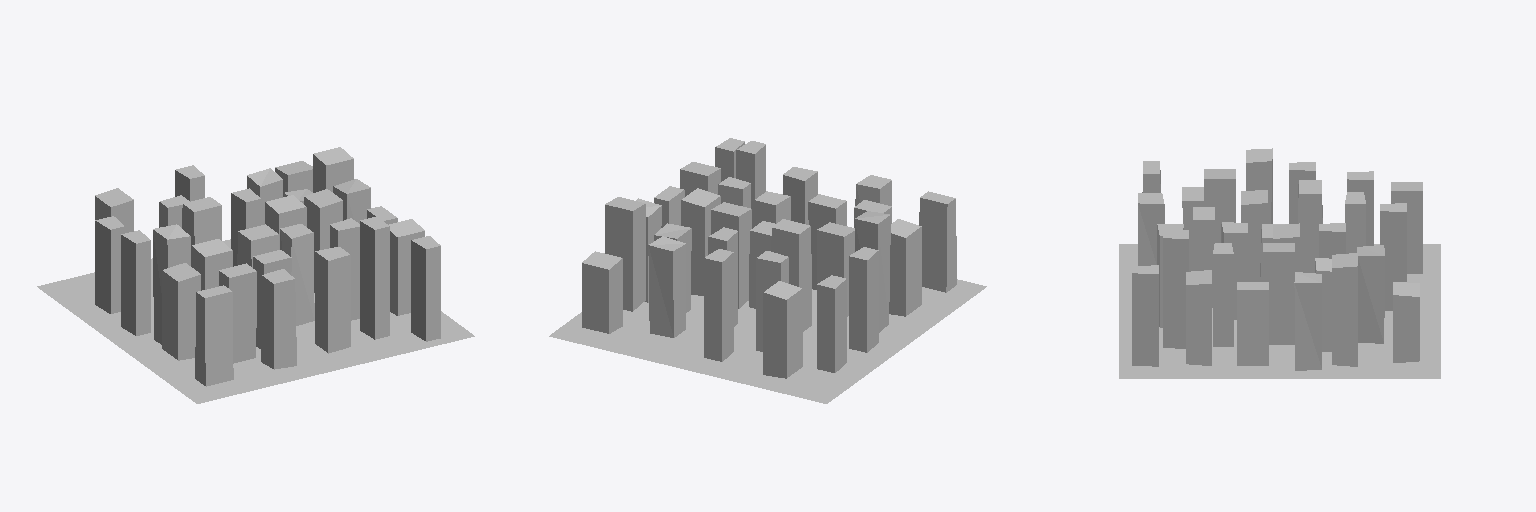
File: City.obj
3 renders of one model, left to right at view 1: azimuth 30°, elevation 25°; view 2: azimuth 150°, elevation 25°; view 3: azimuth 270°, elevation 25°, orthographic.
Visible parts, largest first — view 1: Plane, Cube.002, Cube.007, Cube.010, Cube.008, Cube.006, Cube.020, Cube.011, Cube.001, Cube.022, Cube.004, Cube.012 (+16 smaller); view 2: Plane, Cube.024, Cube.026, Cube.028, Cube.007, Cube.025, Cube.027, Cube.020, Cube.006, Cube.022, Cube.019, Cube.013 (+17 smaller); view 3: Plane, Cube.028, Cube.013, Cube.010, Cube.011, Cube.014, Cube.015, Cube.026, Cube.012, Cube.025, Cube.003, Cube.027 (+17 smaller).
Part boxes in pixels (x1,y1,x2,y2): Plane: (37,239,474,403); Cube.002: (315,247,350,353); Cube.007: (195,285,233,386); Cube.010: (360,216,389,339); Cube.008: (261,269,296,369); Cube.006: (162,263,200,360); Cube.020: (121,230,150,335); Cube.011: (411,236,440,341); Cube.001: (219,263,256,363); Cube.022: (95,216,124,313); Cube.004: (280,224,314,325); Cube.012: (389,219,424,315); Plane: (549,279,986,403); Cube.024: (763,281,802,378); Cube.026: (648,236,685,337); Cube.028: (605,197,645,311); Cube.007: (919,191,956,292); Cube.025: (704,249,733,361); Cube.027: (582,251,622,333); Cube.020: (849,247,878,352); Cube.006: (889,219,921,316); Cube.022: (817,275,846,372); Cube.019: (771,219,811,331); Cube.013: (681,188,720,295); Plane: (1119,244,1440,378); Cube.028: (1332,253,1357,366); Cube.013: (1263,243,1294,344); Cube.010: (1163,230,1188,348); Cube.011: (1132,265,1158,366); Cube.014: (1237,282,1268,365); Cube.015: (1294,272,1321,370); Cube.026: (1357,245,1384,343); Cube.012: (1186,270,1211,365); Cube.025: (1380,203,1406,310); Cube.003: (1213,243,1233,346); Cube.027: (1393,282,1419,362).
Bounding box in the file's own units: 20 × 7.62 × 20.